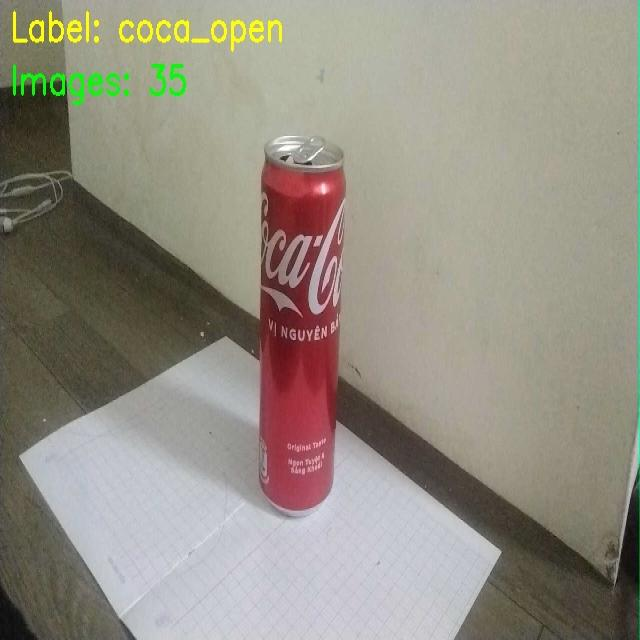Coca_open: (252, 120, 354, 516)
